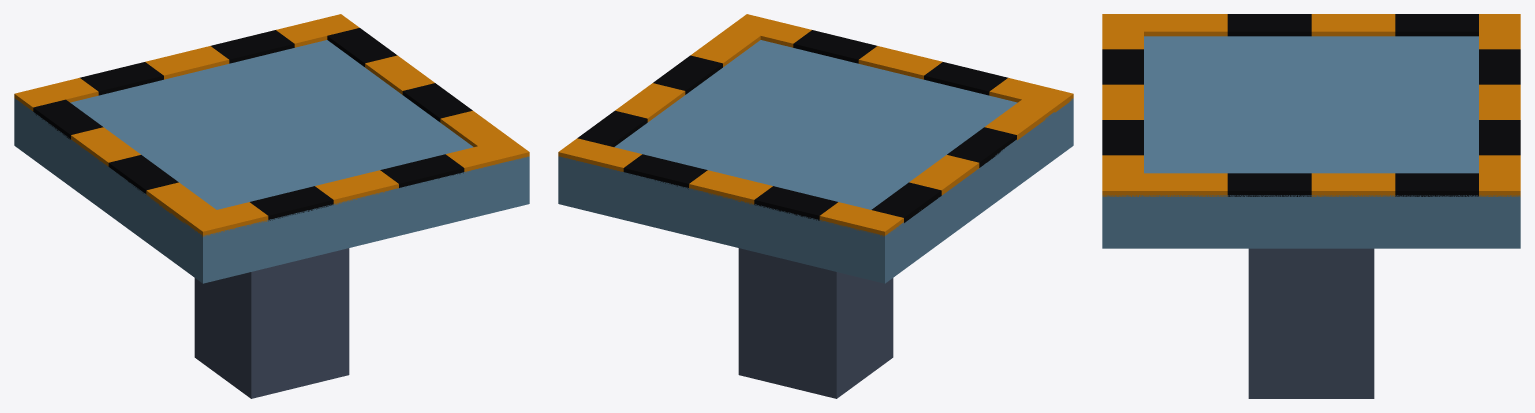
File: SM_Parkour_Pad_Mid.glb
3 views of the same model, side by side, from view 1: azimuth 30°, elevation 25°; view 2: azimuth 150°, elevation 25°; view 3: azimuth 270°, elevation 25° (orthographic). The views are drawn at different scales.
Parts seen in each view (by area): view 1: SM_Parkour_Pad_Mid-col; view 2: SM_Parkour_Pad_Mid-col; view 3: SM_Parkour_Pad_Mid-col.
Part boxes in pixels (x1,y1,x2,y2): SM_Parkour_Pad_Mid-col: (14,14,529,398); SM_Parkour_Pad_Mid-col: (558,14,1073,398); SM_Parkour_Pad_Mid-col: (1102,14,1520,398).
Bounding box in the file's own units: 1 × 0.712 × 1.
